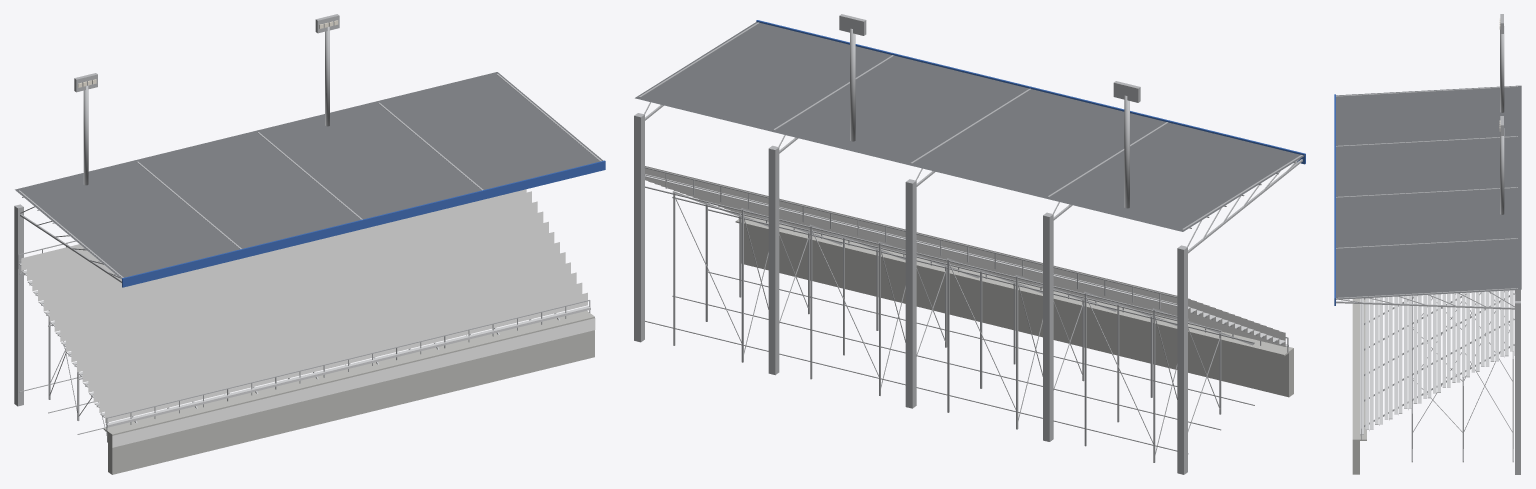
Rendered from grandstand.glb.
3 views of the same model, side by side, from view 1: azimuth 30°, elevation 25°; view 2: azimuth 150°, elevation 25°; view 3: azimuth 270°, elevation 25° (orthographic). The views are drawn at different scales.
Visible parts, largest first — view 1: Crowd_Merged, Roof_Merged, Concrete_Merged, Steel_Merged, Banner_Merged, Fascia_Merged, Alu_Merged; view 2: Roof_Merged, Steel_Merged, Concrete_Merged, Crowd_Merged, Alu_Merged, Fascia_Merged; view 3: Roof_Merged, Alu_Merged, Steel_Merged, Concrete_Merged, Fascia_Merged.
Boxes of the visible parts, <box> form: Crowd_Merged: <box>21,189,587,422</box>; Roof_Merged: <box>15,72,603,279</box>; Concrete_Merged: <box>103,311,594,474</box>; Steel_Merged: <box>14,14,601,442</box>; Banner_Merged: <box>112,318,595,447</box>; Fascia_Merged: <box>122,160,605,287</box>; Alu_Merged: <box>19,263,590,427</box>; Roof_Merged: <box>635,22,1304,231</box>; Steel_Merged: <box>634,14,1302,474</box>; Concrete_Merged: <box>735,215,1293,397</box>; Crowd_Merged: <box>645,166,1285,346</box>; Alu_Merged: <box>645,174,1288,346</box>; Fascia_Merged: <box>756,20,1305,164</box>; Roof_Merged: <box>1336,85,1521,299</box>; Alu_Merged: <box>1360,290,1513,435</box>; Steel_Merged: <box>1336,14,1520,474</box>; Concrete_Merged: <box>1352,298,1366,474</box>; Fascia_Merged: <box>1334,94,1335,305</box>.
Size of the model in its own units: 40.1 by 25.38 by 15.51.
